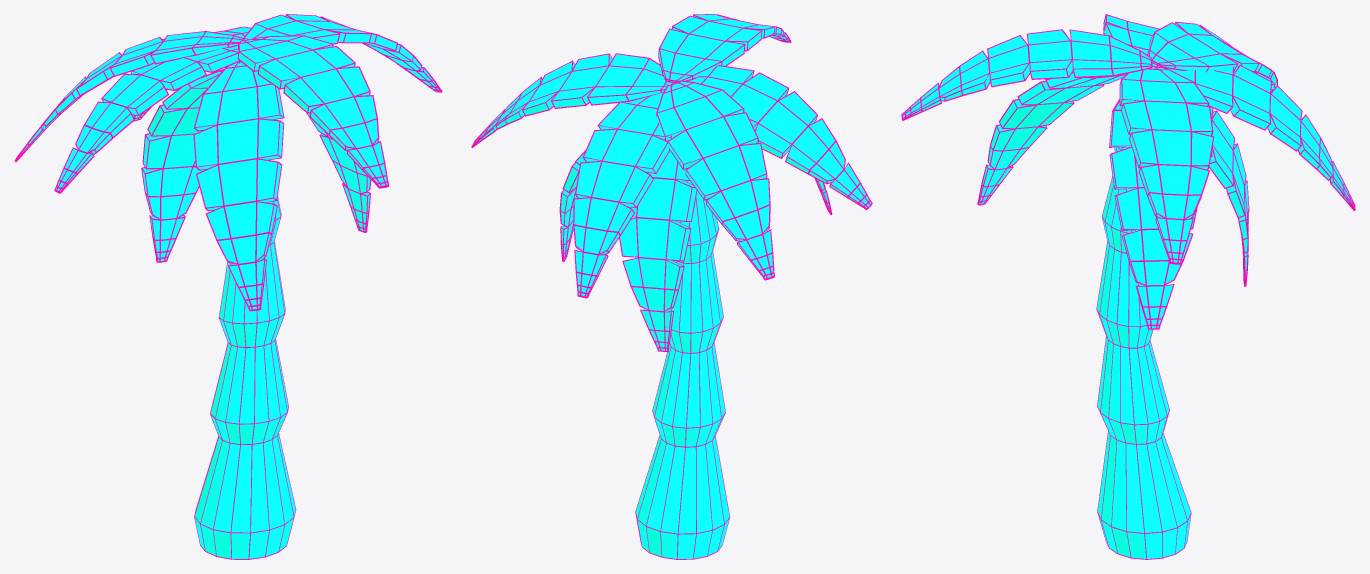
Rendered from Palmlod.fbx.
The picture shows the model from 3 angles, left to right: view 1: azimuth 30°, elevation 25°; view 2: azimuth 150°, elevation 25°; view 3: azimuth 270°, elevation 25°; orthographic projection. The views are drawn at different scales.
Parts seen in each view (by area): view 1: HOJAS_LOD0, TRONCO_LOD0, HOJASLINE_LOD0, TRONCOLINES_LOD0; view 2: HOJAS_LOD0, TRONCO_LOD0, HOJASLINE_LOD0, TRONCOLINES_LOD0; view 3: HOJAS_LOD0, TRONCO_LOD0, HOJASLINE_LOD0, TRONCOLINES_LOD0.
Part boxes in pixels (x1,y1,x2,y2): HOJAS_LOD0: (20, 14, 439, 309); TRONCO_LOD0: (195, 62, 295, 558); HOJASLINE_LOD0: (14, 14, 442, 311); TRONCOLINES_LOD0: (194, 61, 296, 559); HOJAS_LOD0: (474, 14, 871, 350); TRONCO_LOD0: (636, 180, 729, 558); HOJASLINE_LOD0: (471, 14, 872, 352); TRONCOLINES_LOD0: (635, 181, 730, 559); HOJAS_LOD0: (903, 15, 1353, 328); TRONCO_LOD0: (1097, 147, 1190, 558); HOJASLINE_LOD0: (901, 14, 1355, 329); TRONCOLINES_LOD0: (1096, 147, 1191, 559).
Size of what is drawn, in the model's own units: 1136 by 1380 by 1138.
